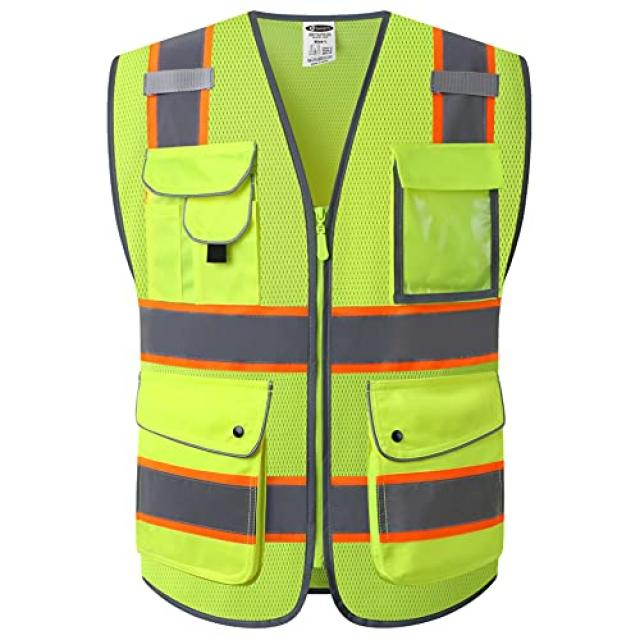safety_helmet: (99, 23, 517, 611)
